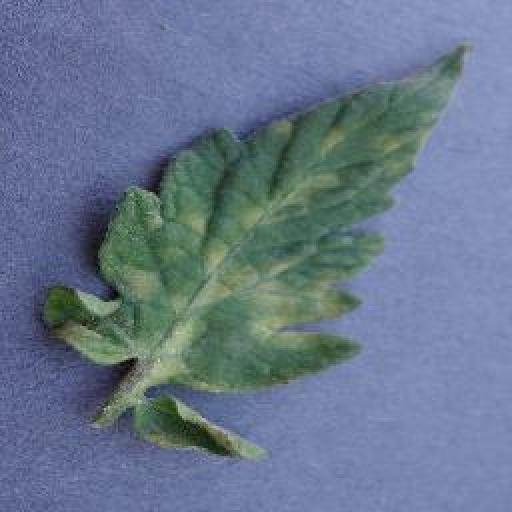disease_tomato: (40, 44, 470, 394)
